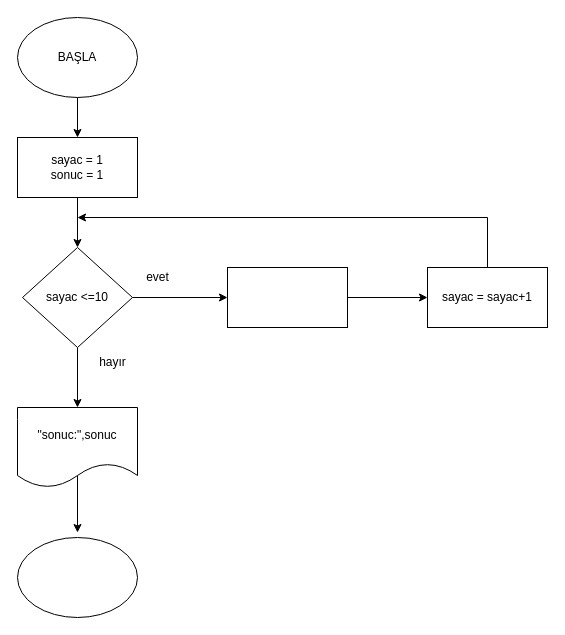
The diagram is 565 pixels wide and 635 high, and some of its shapes have lost their labels. The centre of each missing label's shape, as x and y in pixels:
"BİTİR" belongs at point (77, 577).
"sonuc = sonuc*sayac" belongs at point (287, 297).
